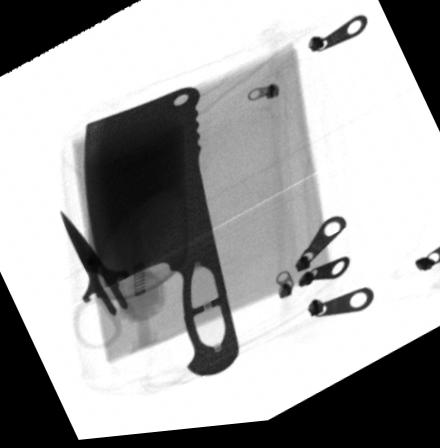Knife: (86, 89, 240, 381)
Scissors: (60, 213, 168, 353)
